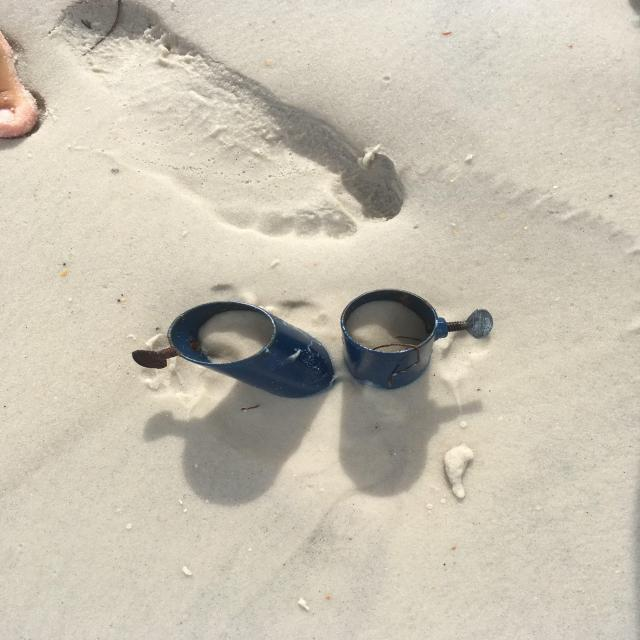litter: (167, 302, 336, 399), (343, 288, 490, 391)
